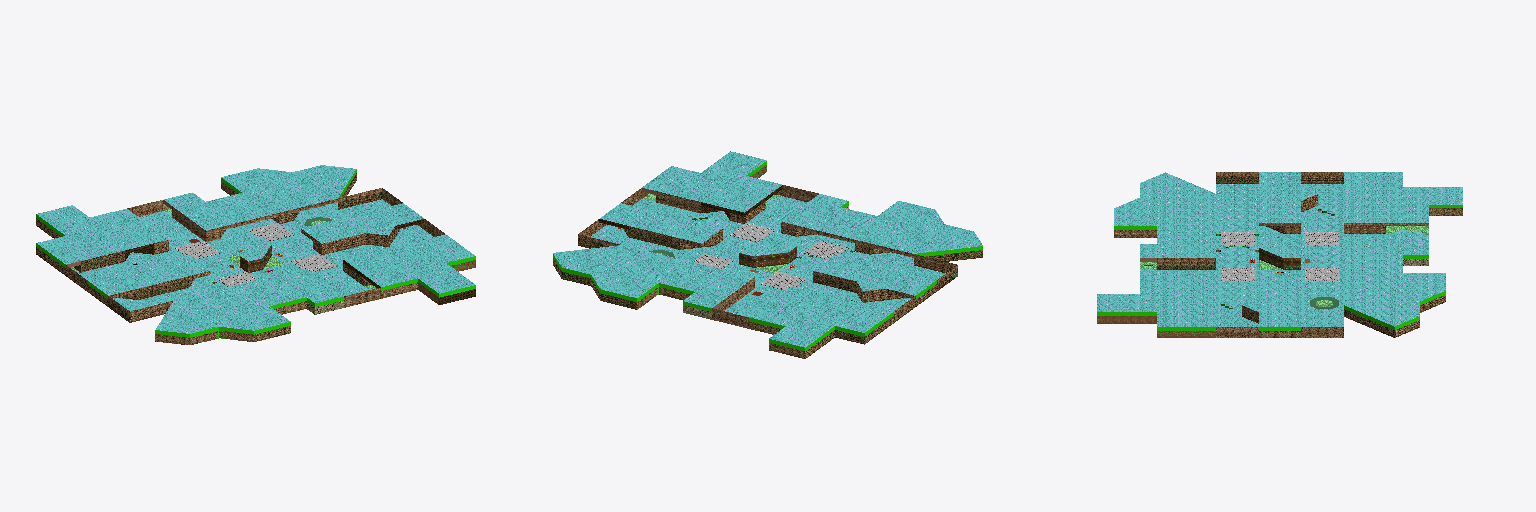
3 views of the same model, side by side, from view 1: azimuth 30°, elevation 25°; view 2: azimuth 150°, elevation 25°; view 3: azimuth 270°, elevation 25° (orthographic).
Visible parts, largest first — view 1: Mesh_0002-SKP--Road_0x00_1, Mesh_0002-SKP--Wall_0x0C_7, Mesh_0002-SKP--Wall_0x0C_6, Mesh_0002-SKP--Default_Material, Mesh_0002-SKP--Road_0x00_3, Mesh_0002-SKP--Wall_0x0C_4, Mesh_0002-SKP--Wall_0x0C_2; view 2: Mesh_0002-SKP--Road_0x00_1, Mesh_0002-SKP--Wall_0x0C_7, Mesh_0002-SKP--Wall_0x0C_6, Mesh_0002-SKP--Wall_0x0C_4, Mesh_0002-SKP--Road_0x00_3, Mesh_0002-SKP--Default_Material, Mesh_0002-SKP--Wall_0x0C_1, Mesh_0002-SKP--Wall_0x0C_2; view 3: Mesh_0002-SKP--Road_0x00_1, Mesh_0002-SKP--Wall_0x0C_7, Mesh_0002-SKP--Wall_0x0C_6, Mesh_0002-SKP--Road_0x00_3, Mesh_0002-SKP--Default_Material, Mesh_0002-SKP--Wall_0x0C_9, Mesh_0002-SKP--Wall_0x0C_4, Mesh_0002-SKP--Road_0x00_2.
Part boxes in pixels (x1,y1,x2,y2): Mesh_0002-SKP--Road_0x00_1: (37,165,474,333); Mesh_0002-SKP--Wall_0x0C_7: (66,181,444,344); Mesh_0002-SKP--Wall_0x0C_6: (36,173,400,341); Mesh_0002-SKP--Default_Material: (36,169,475,338); Mesh_0002-SKP--Road_0x00_3: (176,223,335,286); Mesh_0002-SKP--Wall_0x0C_4: (74,192,381,322); Mesh_0002-SKP--Wall_0x0C_2: (125,219,475,304); Mesh_0002-SKP--Road_0x00_1: (553,151,982,347); Mesh_0002-SKP--Wall_0x0C_7: (578,185,957,358); Mesh_0002-SKP--Wall_0x0C_6: (553,201,952,358); Mesh_0002-SKP--Wall_0x0C_4: (562,230,982,344); Mesh_0002-SKP--Road_0x00_3: (693,223,847,289); Mesh_0002-SKP--Default_Material: (553,161,982,351); Mesh_0002-SKP--Wall_0x0C_1: (739,247,796,267); Mesh_0002-SKP--Wall_0x0C_2: (599,185,848,289); Mesh_0002-SKP--Road_0x00_1: (1097,172,1462,326); Mesh_0002-SKP--Wall_0x0C_7: (1114,172,1462,337); Mesh_0002-SKP--Wall_0x0C_6: (1242,176,1445,337); Mesh_0002-SKP--Road_0x00_3: (1221,232,1338,281); Mesh_0002-SKP--Default_Material: (1097,205,1462,330); Mesh_0002-SKP--Wall_0x0C_9: (1097,316,1215,337); Mesh_0002-SKP--Wall_0x0C_4: (1157,176,1258,269); Mesh_0002-SKP--Road_0x00_2: (1140,226,1428,306).
Bounding box in the file's own units: 33024 × 1296 × 33024.
Materials: 25 (18 with a texture image).